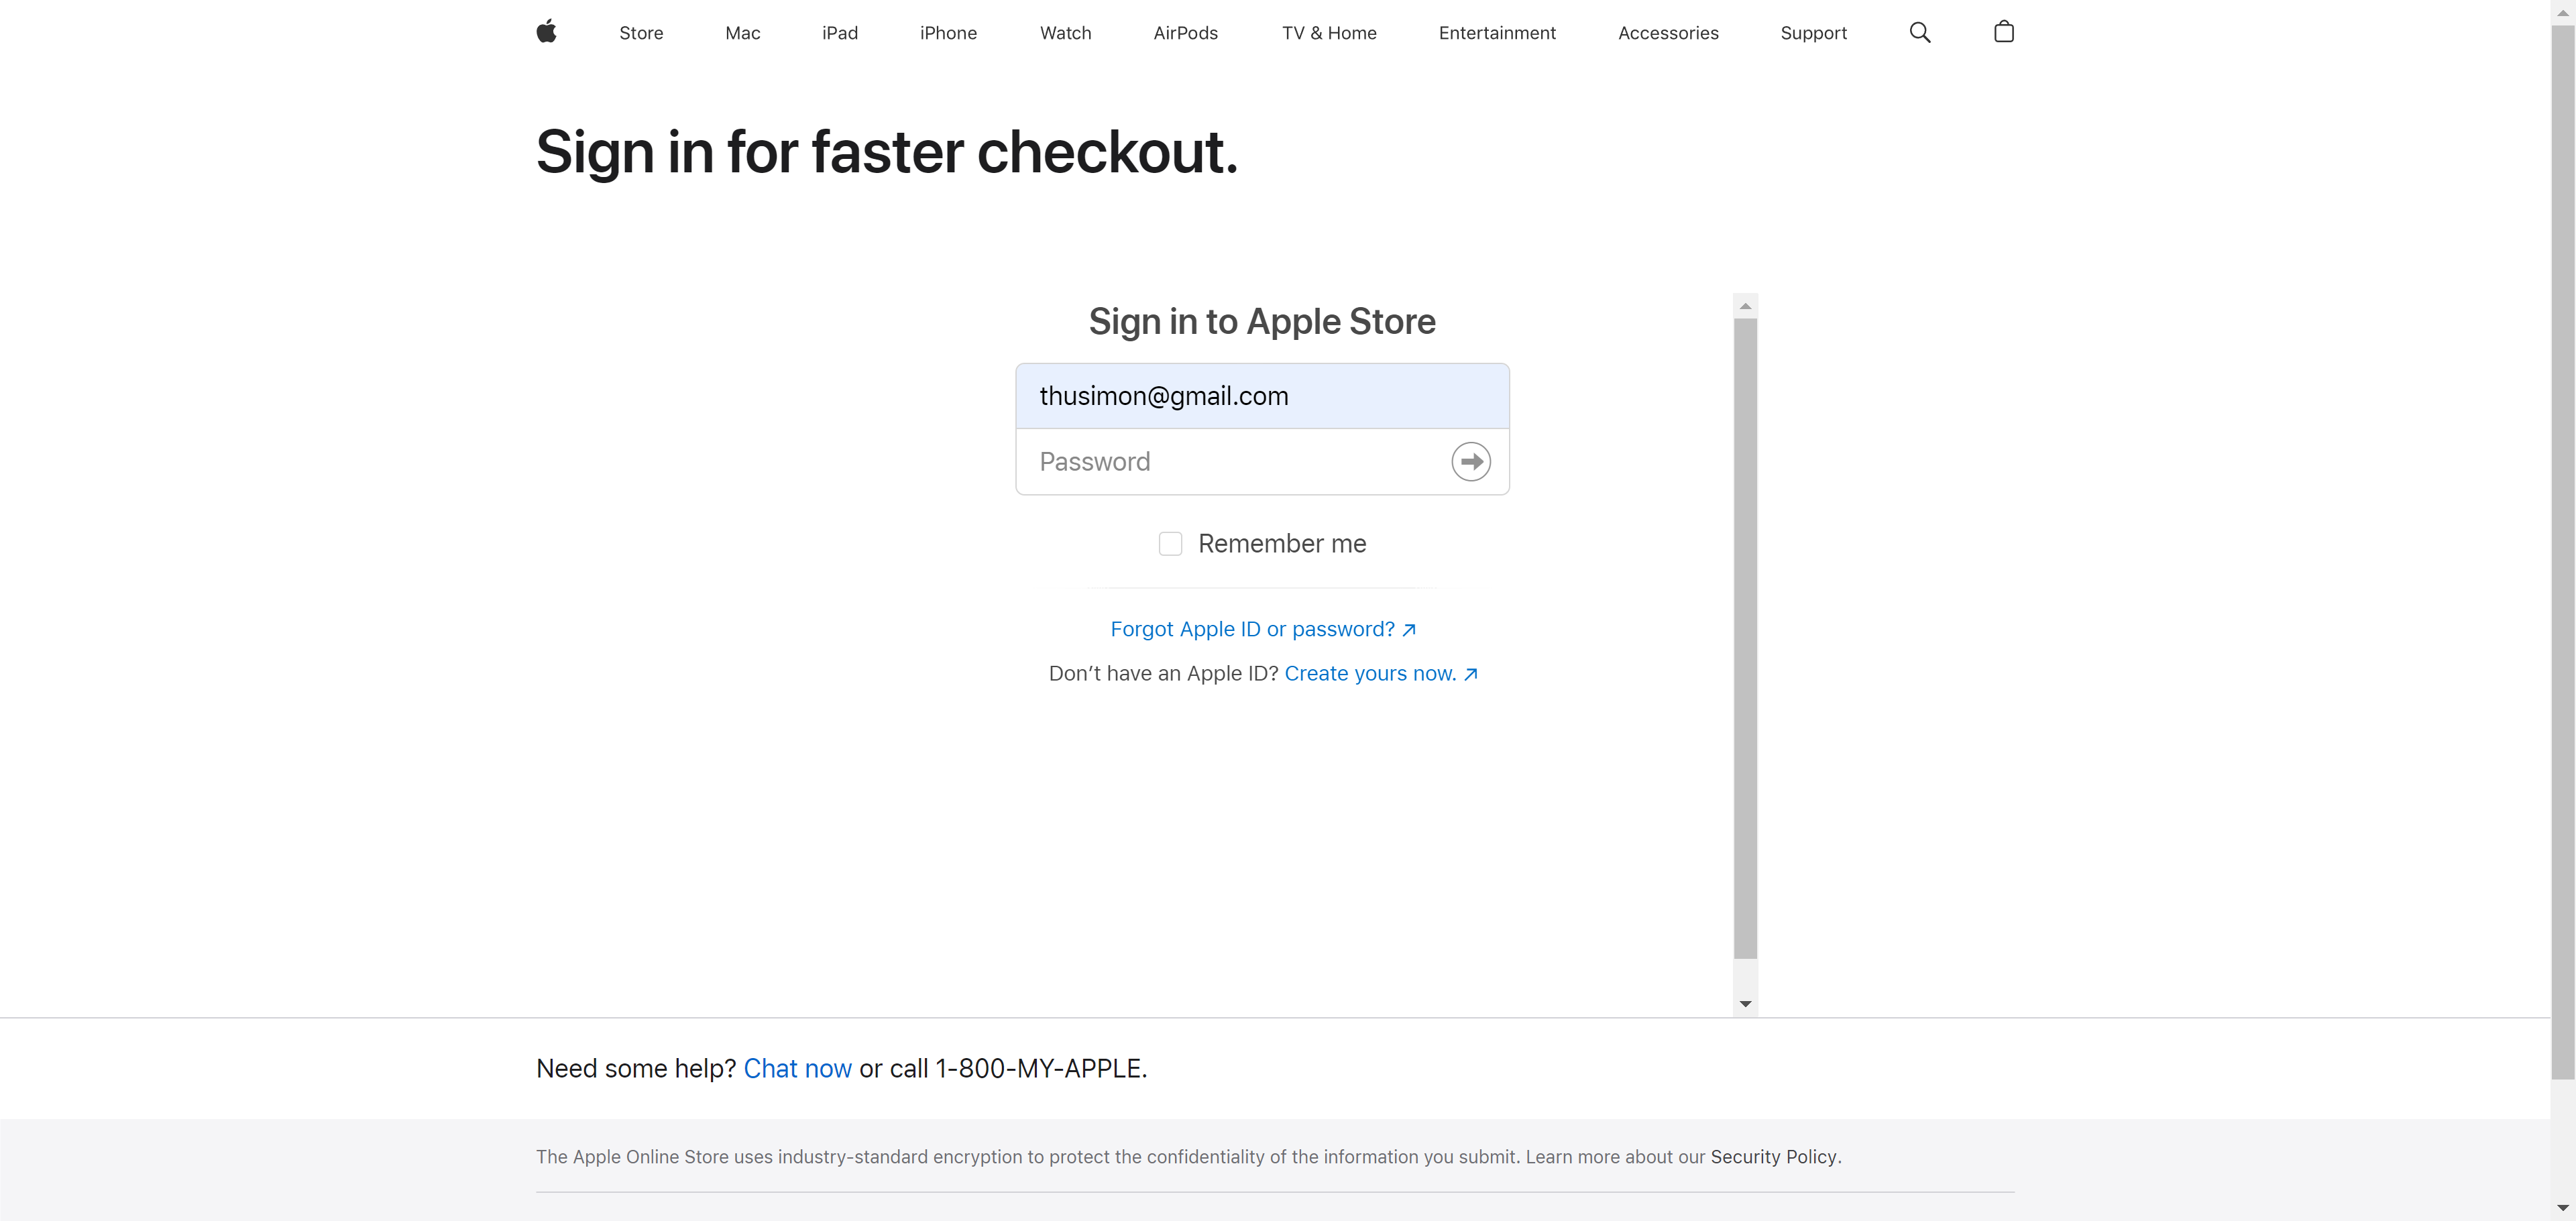login_button: (1451, 440, 1492, 481)
login_form: (1009, 355, 1516, 501)
